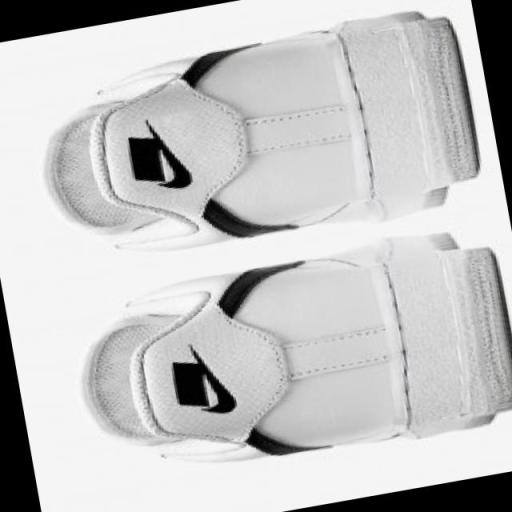Nike: (147, 122, 194, 192)
